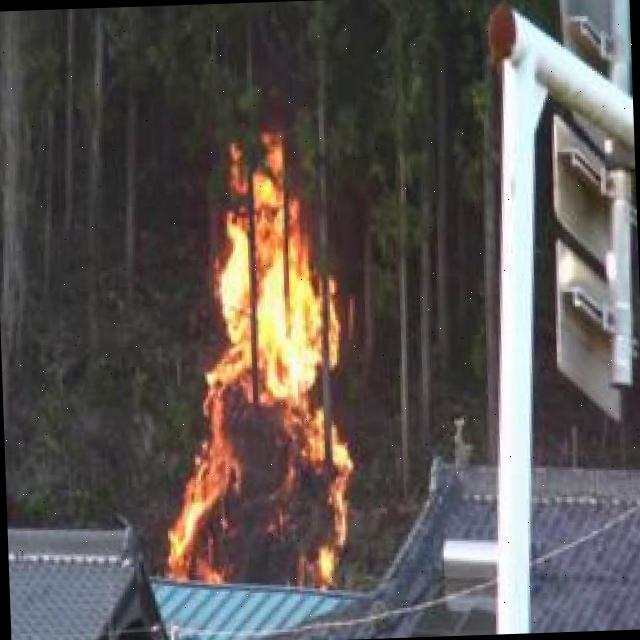fire: (157, 147, 345, 586)
